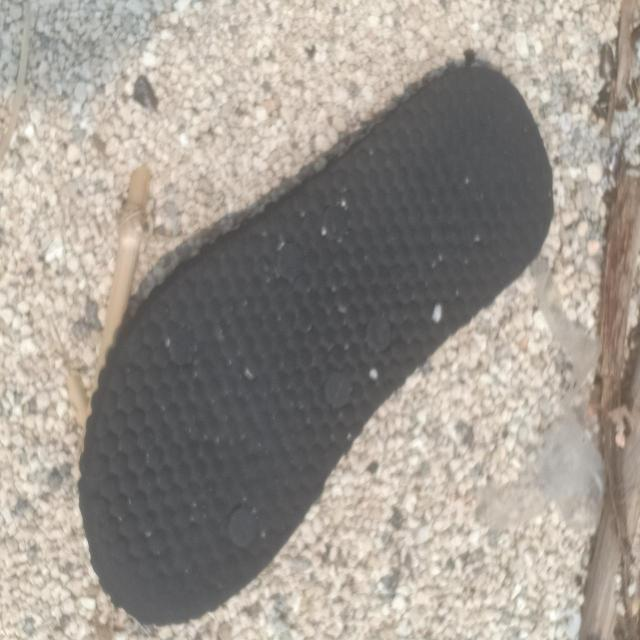rubber_waste: (78, 65, 556, 629)
